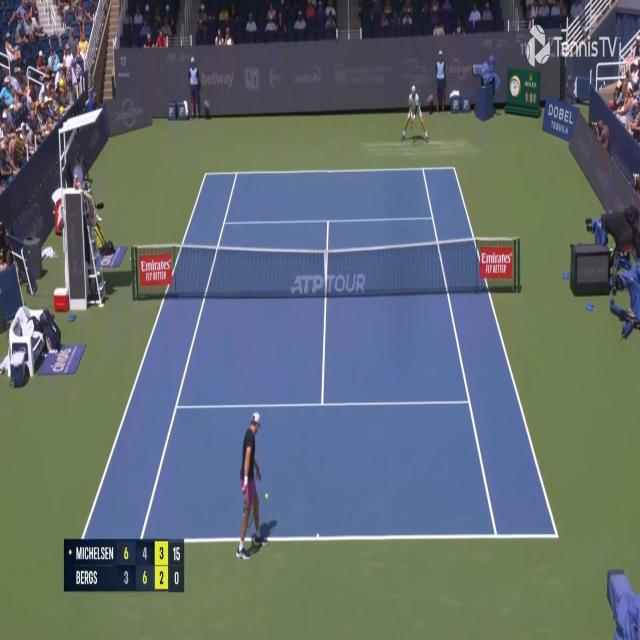tennis-player: (234, 408, 276, 564), (402, 83, 429, 144)
